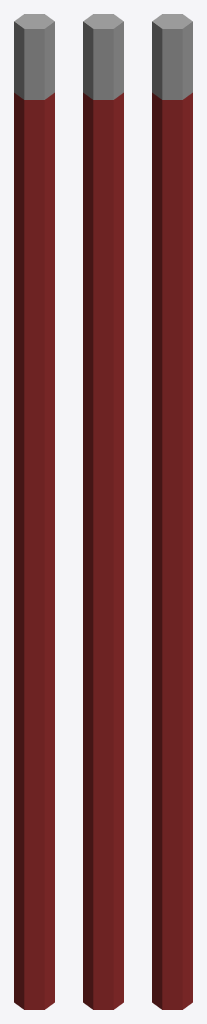
Rendered from Asian_Prop_Temple_Incense_01.FBX.
3 views of the same model, side by side, from view 1: azimuth 90°, elevation 25°; view 2: azimuth 150°, elevation 25°; view 3: azimuth 330°, elevation 25° (orthographic).
Visible parts, largest first — view 1: Asian_Prop_Temple_Incense_01; view 2: Asian_Prop_Temple_Incense_01; view 3: Asian_Prop_Temple_Incense_01.
Boxes of the visible parts, x1,y1,x2,y2 form: Asian_Prop_Temple_Incense_01: (14,14,54,1009); Asian_Prop_Temple_Incense_01: (83,14,123,1009); Asian_Prop_Temple_Incense_01: (152,14,192,1009).
Size of the model in its own units: 19.32 by 593 by 22.31.
